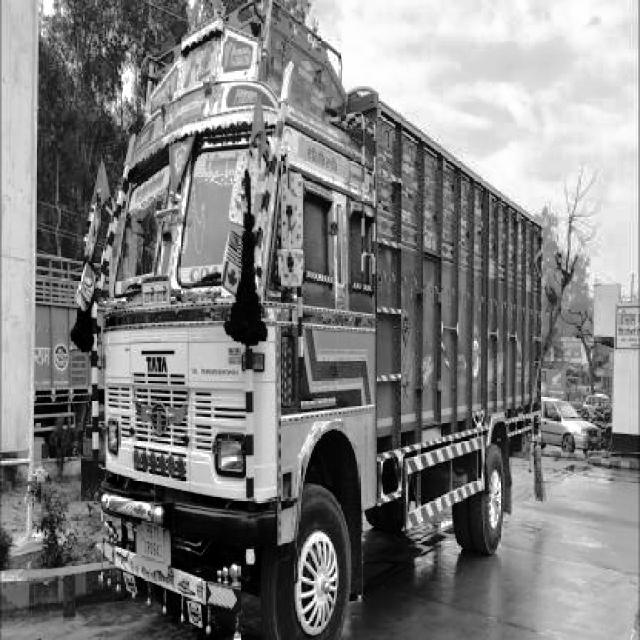HCV: (103, 4, 543, 582)
